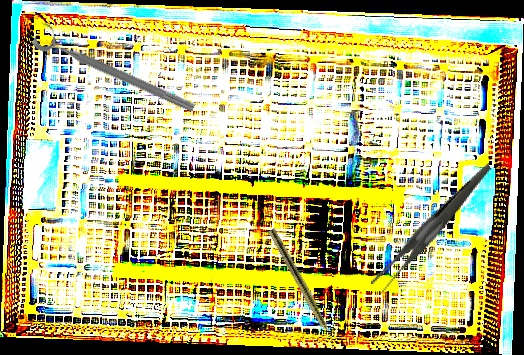Dressing Forceps: (347, 163, 519, 296)
Fixation Ring: (30, 19, 202, 118)
Handpiece: (266, 227, 341, 351)
